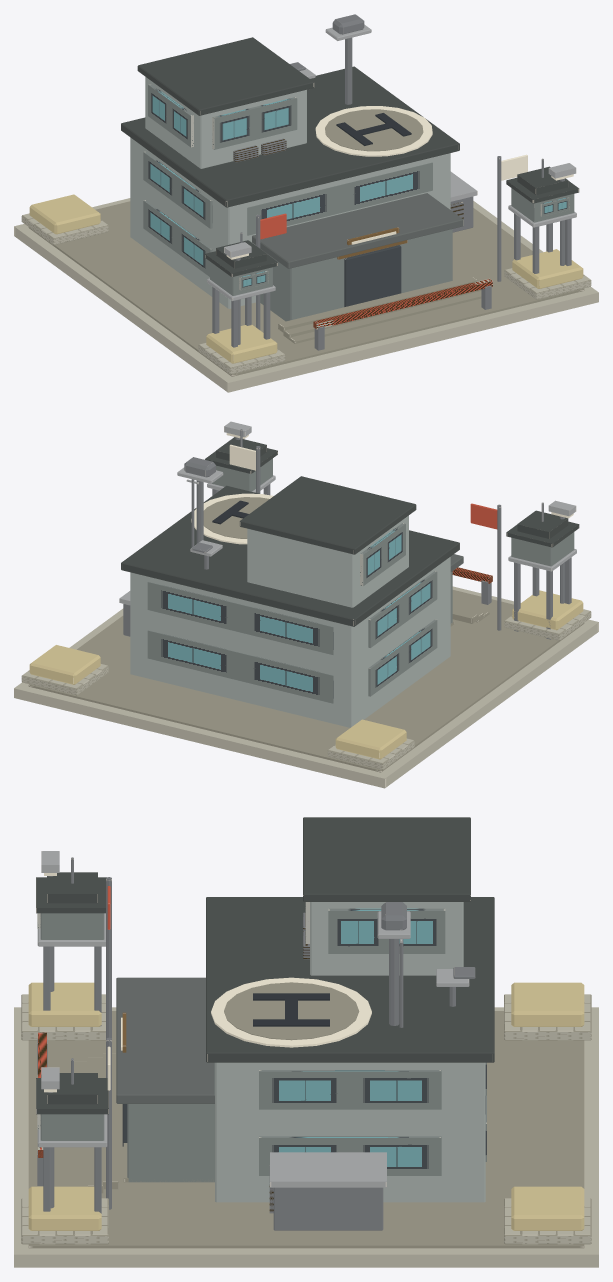
3 views of the same model, one above another, from view 1: azimuth 30°, elevation 25°; view 2: azimuth 150°, elevation 25°; view 3: azimuth 270°, elevation 25° (orthographic). The views are drawn at different scales.
Visible parts, largest first — view 1: HQ, Lv1, Lv2; view 2: HQ, Lv1, Lv2; view 3: HQ, Lv1, Lv2.
Boxes of the visible parts, <box> form: HQ: <box>14,66,598,392</box>; Lv1: <box>137,14,527,329</box>; Lv2: <box>205,62,579,347</box>; HQ: <box>14,470,598,788</box>; Lv1: <box>119,444,501,636</box>; Lv2: <box>190,421,579,639</box>; HQ: <box>14,897,598,1267</box>; Lv1: <box>106,817,470,1230</box>; Lv2: <box>36,851,475,1213</box>.
Size of the model in its own units: 16 by 8.6 by 16.
Materials: 1 (1 with a texture image).
